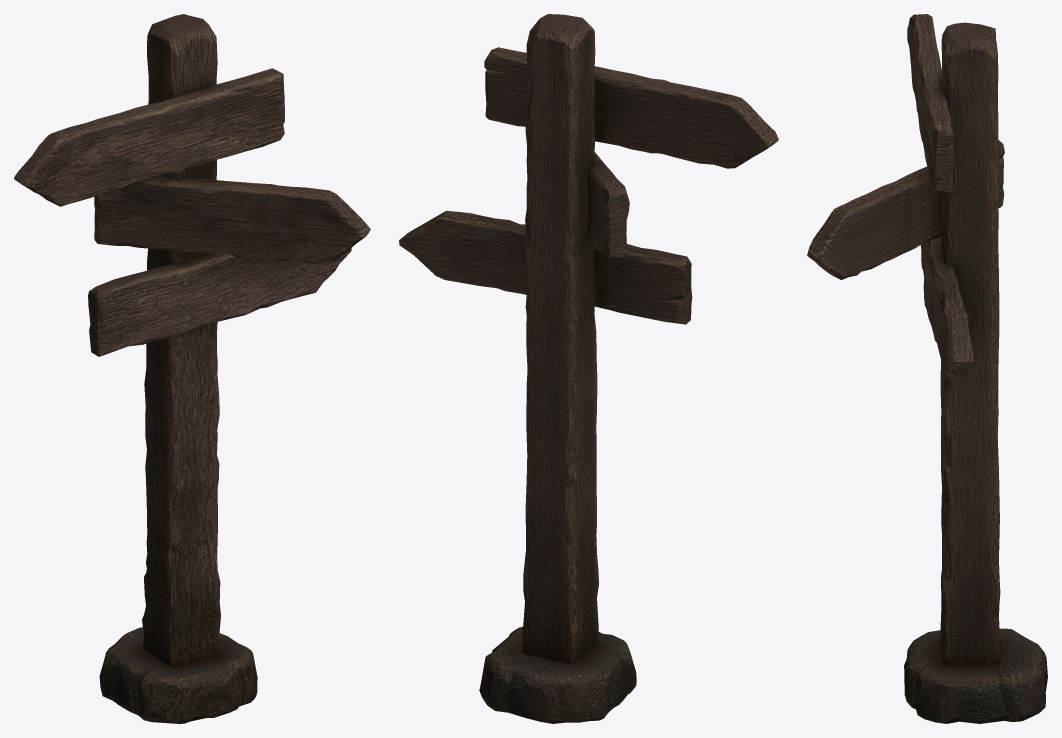
The model's file is prp_signpost_a_LOD0.glb.
The picture shows the model from 3 angles, left to right: view 1: azimuth 30°, elevation 25°; view 2: azimuth 150°, elevation 25°; view 3: azimuth 270°, elevation 25°; orthographic projection.
Visible parts, largest first — view 1: tripo_mesh_28946de0-9a7c-4e3d-8e3a-7939a8187aa6; view 2: tripo_mesh_28946de0-9a7c-4e3d-8e3a-7939a8187aa6; view 3: tripo_mesh_28946de0-9a7c-4e3d-8e3a-7939a8187aa6.
Part boxes in pixels (x1=…): tripo_mesh_28946de0-9a7c-4e3d-8e3a-7939a8187aa6: x1=14, y1=14, x2=370, y2=723; tripo_mesh_28946de0-9a7c-4e3d-8e3a-7939a8187aa6: x1=399, y1=14, x2=778, y2=723; tripo_mesh_28946de0-9a7c-4e3d-8e3a-7939a8187aa6: x1=807, y1=14, x2=1047, y2=723.
Size of the model in its own units: 1.42 by 2.6 by 0.853.
1 material, 1 textured.
